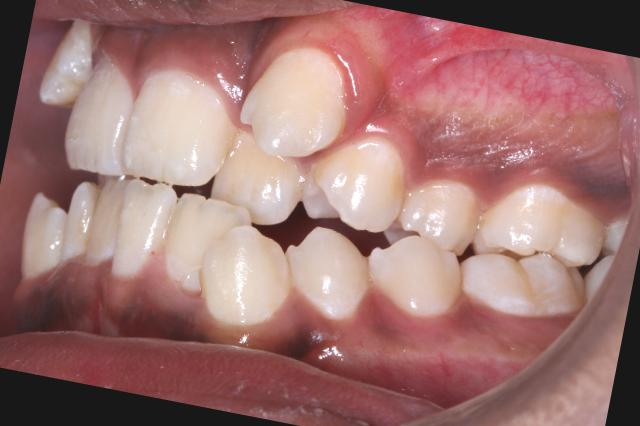canine class II 1/2: (180, 23, 412, 353)
molar class III 1/4: (452, 159, 616, 334)
